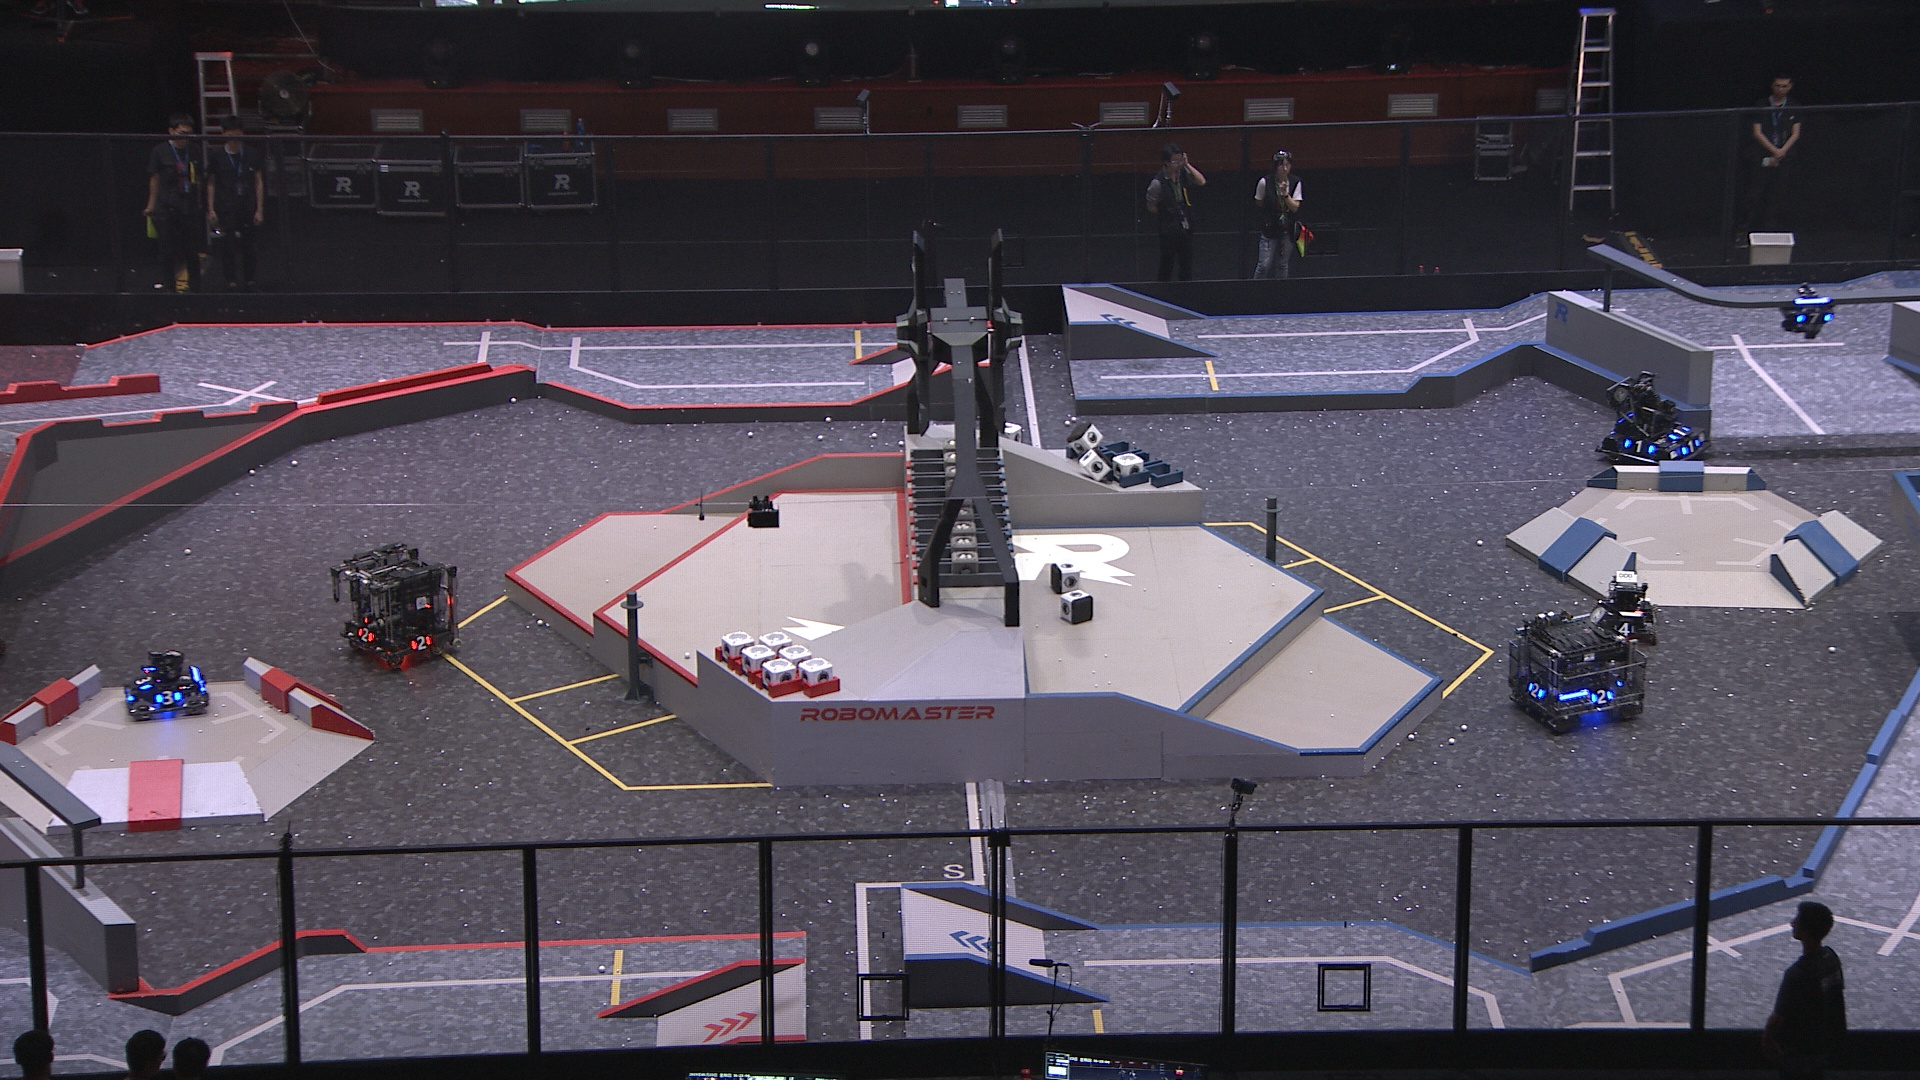armor: (1621, 436, 1658, 458), (1797, 311, 1832, 324), (154, 688, 182, 704), (1524, 680, 1544, 702), (353, 624, 375, 644), (410, 633, 433, 651), (1592, 688, 1615, 705), (1613, 621, 1638, 637), (135, 671, 153, 692), (1667, 425, 1689, 442), (1680, 438, 1702, 455)
car: (1505, 607, 1646, 736), (330, 541, 462, 674), (1598, 367, 1713, 473), (120, 646, 210, 723), (1589, 570, 1662, 647)
watcher: (1776, 282, 1837, 342)
